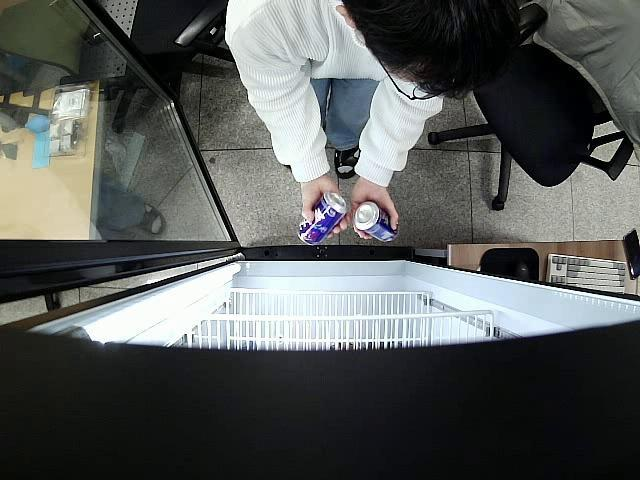14_welchsGrape: (297, 192, 348, 245), (353, 201, 398, 242)
